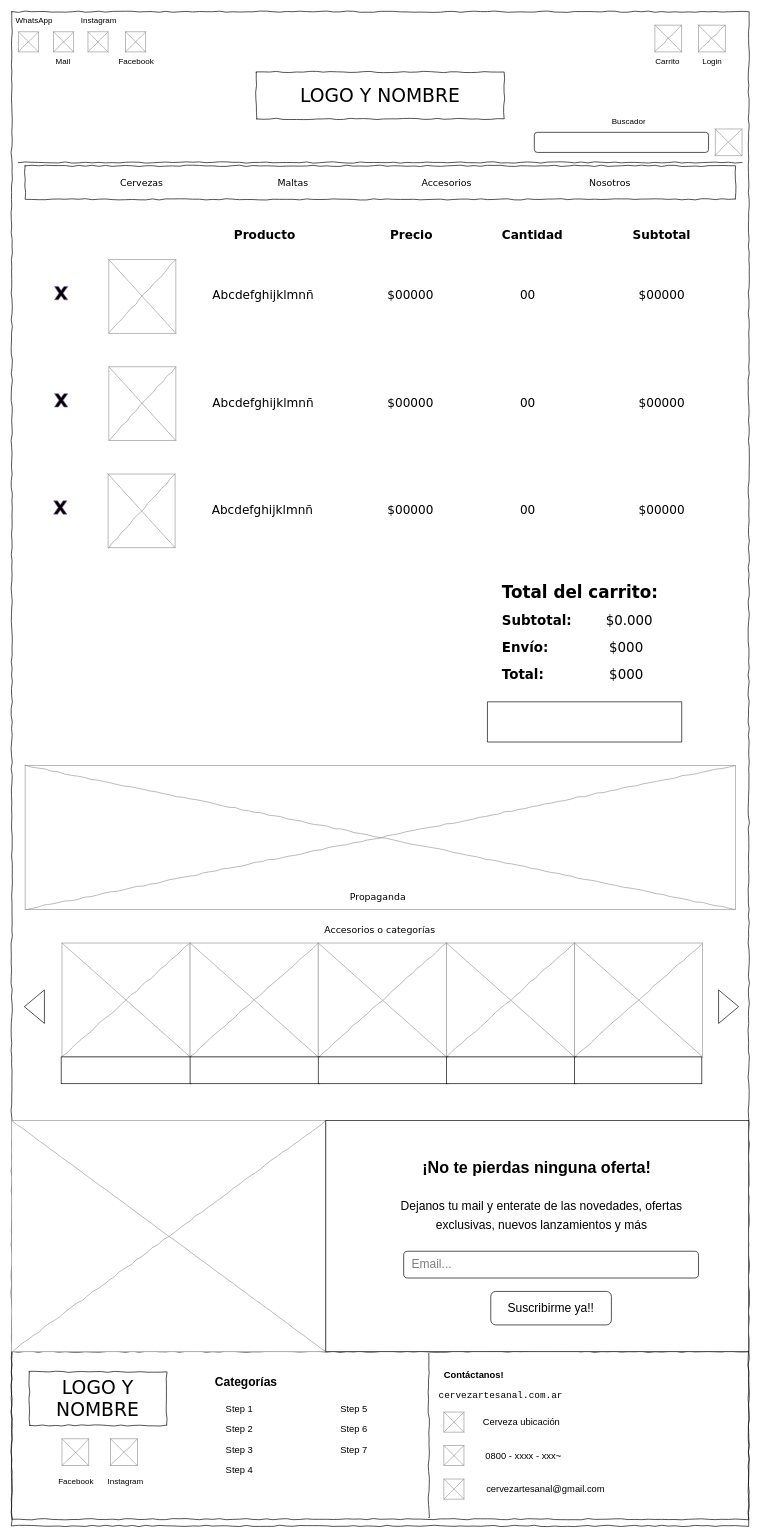
This 760x1538 diagram has some shape labels left out. The shapes that lost their labels are listed below. From the top down, each one's centre as x and y in pixels, then its label:
point (621, 142): Buscar...
point (584, 721): FINALIZAR COMPRA
